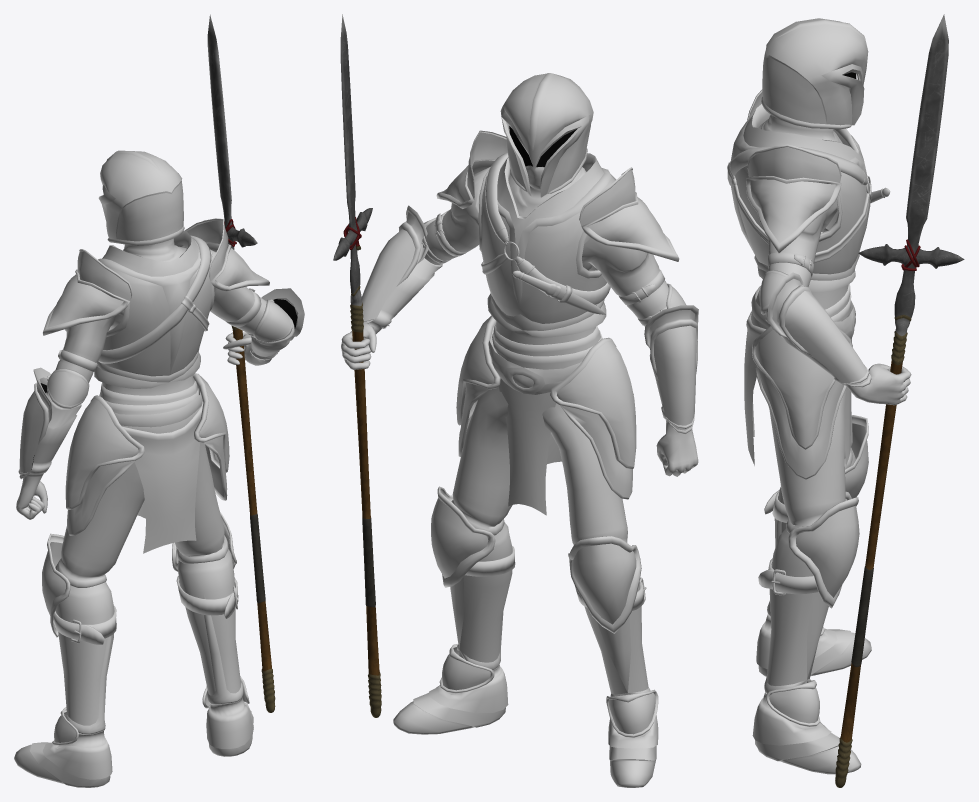
Rendered from Knighty92.obj.
3 renders of one model, left to right at view 1: azimuth 30°, elevation 25°; view 2: azimuth 150°, elevation 25°; view 3: azimuth 270°, elevation 25°, orthographic. The views are drawn at different scales.
Parts seen in each view (by area): view 1: Guard_Mesh, Plane; view 2: Guard_Mesh, Plane; view 3: Guard_Mesh, Plane.
Boxes of the visible parts, x1=… form: Guard_Mesh: x1=14, y1=150, x2=304, y2=787; Plane: x1=204, y1=14, x2=275, y2=712; Guard_Mesh: x1=341, y1=73, x2=698, y2=787; Plane: x1=333, y1=14, x2=381, y2=717; Guard_Mesh: x1=727, y1=18, x2=911, y2=774; Plane: x1=835, y1=14, x2=964, y2=787.
Bounding box in the file's own units: 92.35 × 209 × 58.66.
